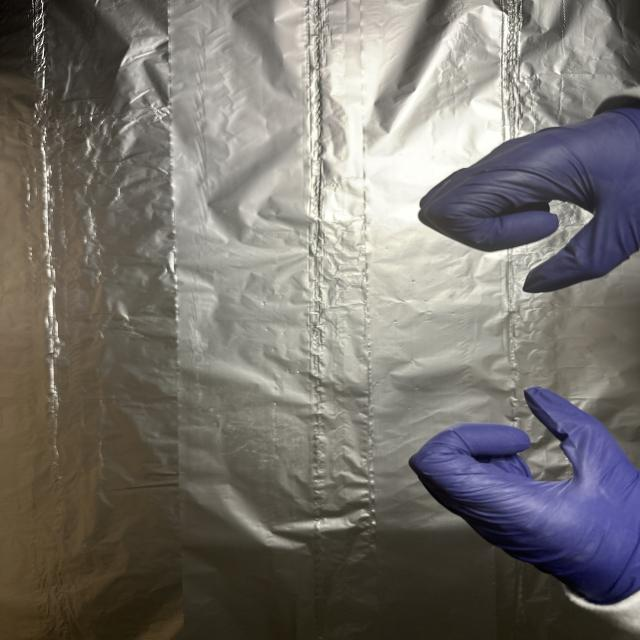gloves_contaminated: (410, 387, 640, 619), (419, 106, 640, 293)
